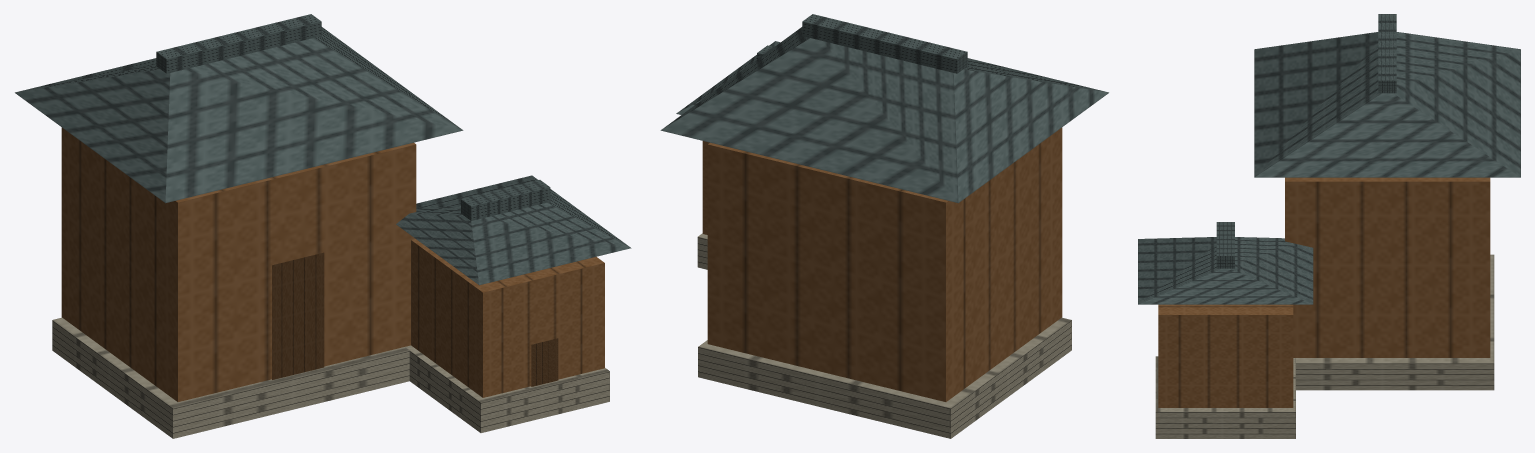
The model's file is domestic-STABLE-2-lod2.glb.
The picture shows the model from 3 angles, left to right: view 1: azimuth 30°, elevation 25°; view 2: azimuth 150°, elevation 25°; view 3: azimuth 270°, elevation 25°; orthographic projection. The views are drawn at different scales.
Bounding box in the file's own units: 0.755 × 0.59 × 0.7095.
1 material, 1 textured.
